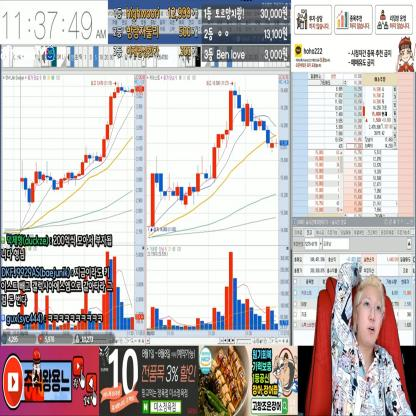streamer: (329, 260, 415, 416)
